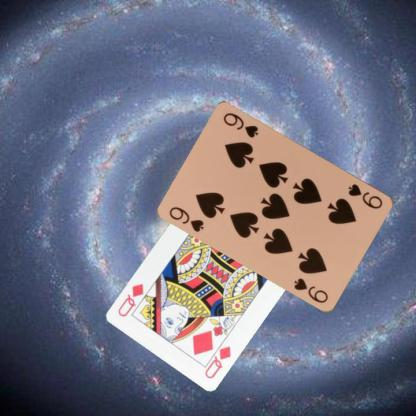9s: (166, 204, 206, 233), (346, 181, 384, 210)
Qd: (201, 336, 232, 380)
